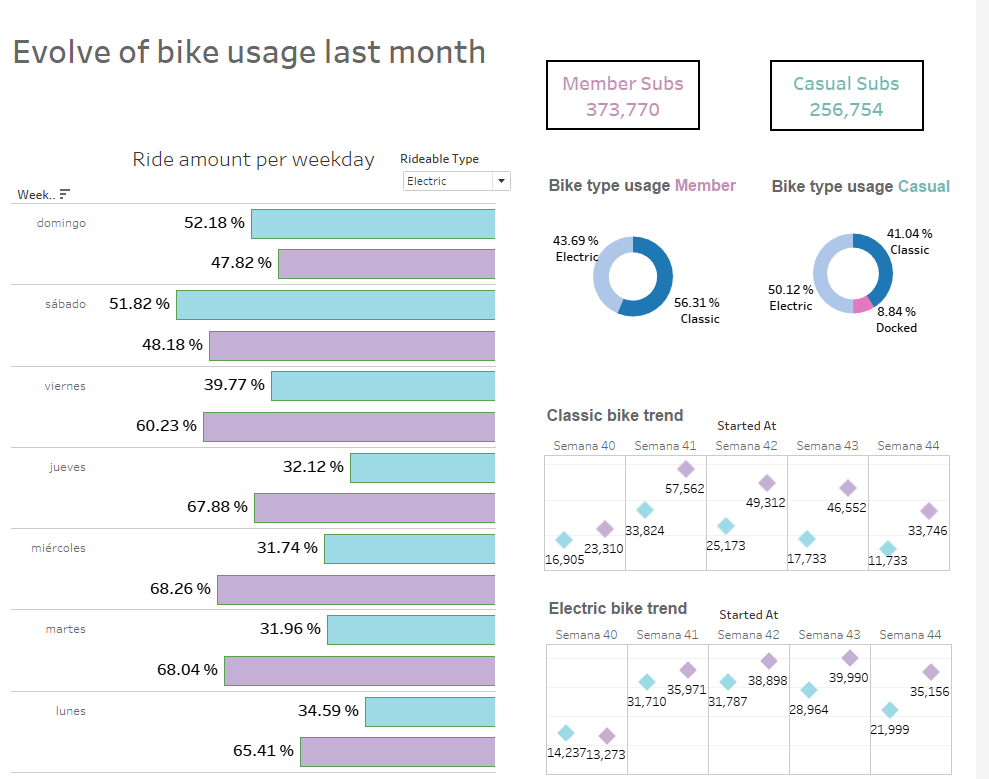

The dashboard page shown, as its layout file describes it:
{"tool":"tableau","page":{"name":"Dashboard 1","canvas":[1000,800],"ordinal":0},"visuals":[{"type":"text","box":[33,14,718,88]},{"type":"worksheet","title":"KPI Member Subs","mark":"Square","rows":["member_casual"],"box":[569,67,156,72]},{"type":"worksheet","title":"KPI Casual Subs","mark":"Square","rows":["member_casual"],"box":[793,67,156,73]},{"type":"worksheet","title":"Ride type Week","mark":"Bar","rows":["started_at","member_casual"],"cols":["member_casual"],"box":[35,148,485,633]},{"type":"filter","title":"Ride type Week","param":"[federated.113tz2r031ggzf1gewxly1sb0ogz].[none:rideable_type:nk]","box":[424,158,114,45]},{"type":"text","box":[570,179,193,30]},{"type":"text","box":[793,180,184,30]},{"type":"worksheet","title":"Bike type usage Member","mark":"Pie","rows":["Calculation_1061723668857098248","Calculation_1061723668857098248"],"box":[566,203,182,163]},{"type":"worksheet","title":"Bike type usage Casual","mark":"Pie","rows":["Calculation_1061723668857098248","Calculation_1061723668857098248"],"box":[791,203,172,157]},{"type":"text","box":[568,409,143,30]},{"type":"worksheet","title":"Clasic bike Trend","mark":"Shape","rows":["member_casual"],"cols":["started_at","member_casual"],"box":[568,423,406,156]},{"type":"text","box":[570,602,143,30]},{"type":"worksheet","title":"Electric bike trend","mark":"Shape","rows":["member_casual"],"cols":["started_at","member_casual"],"box":[570,612,406,171]}]}

Visuals, with their boxes in screenshot pixels (x1, y1, x2, y2), scaled from the page's 1000x800 canvas onto the 989x779 screenshot:
text: bbox=(33, 14, 743, 99)
"KPI Member Subs" worksheet (Square marks): bbox=(563, 65, 717, 135)
"KPI Casual Subs" worksheet (Square marks): bbox=(784, 65, 939, 136)
"Ride type Week" worksheet (Bar marks): bbox=(35, 144, 514, 760)
"Ride type Week" filter: bbox=(419, 154, 532, 198)
text: bbox=(564, 174, 755, 204)
text: bbox=(784, 175, 966, 204)
"Bike type usage Member" worksheet (Pie marks): bbox=(560, 198, 740, 356)
"Bike type usage Casual" worksheet (Pie marks): bbox=(782, 198, 952, 351)
text: bbox=(562, 398, 703, 427)
"Clasic bike Trend" worksheet (Shape marks): bbox=(562, 412, 963, 564)
text: bbox=(564, 586, 705, 615)
"Electric bike trend" worksheet (Shape marks): bbox=(564, 596, 965, 762)
